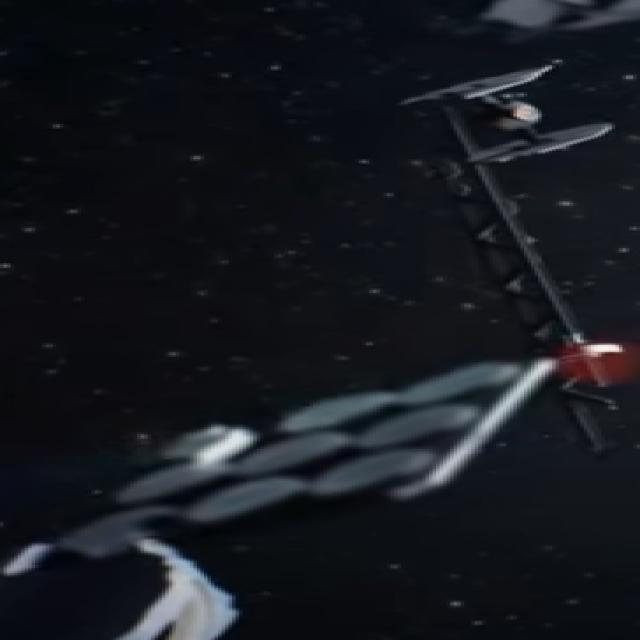large_debris: (7, 321, 544, 640), (410, 54, 640, 486), (365, 0, 640, 55)
